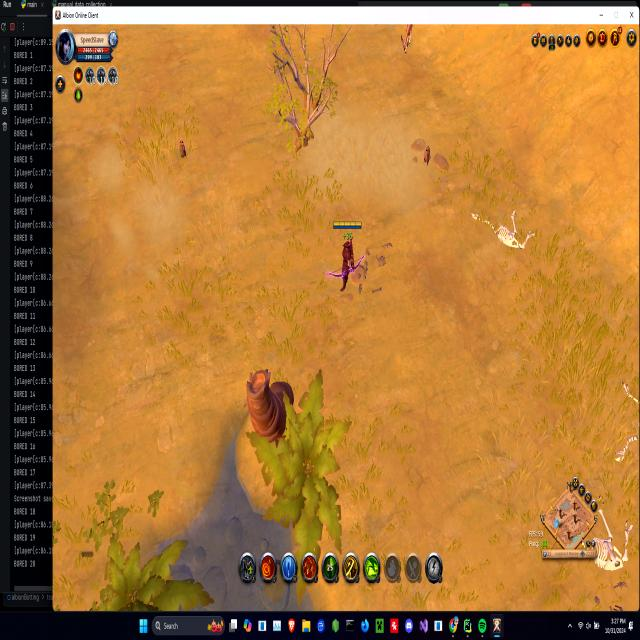ore: (397, 23, 416, 56)
red: (330, 216, 364, 296)
